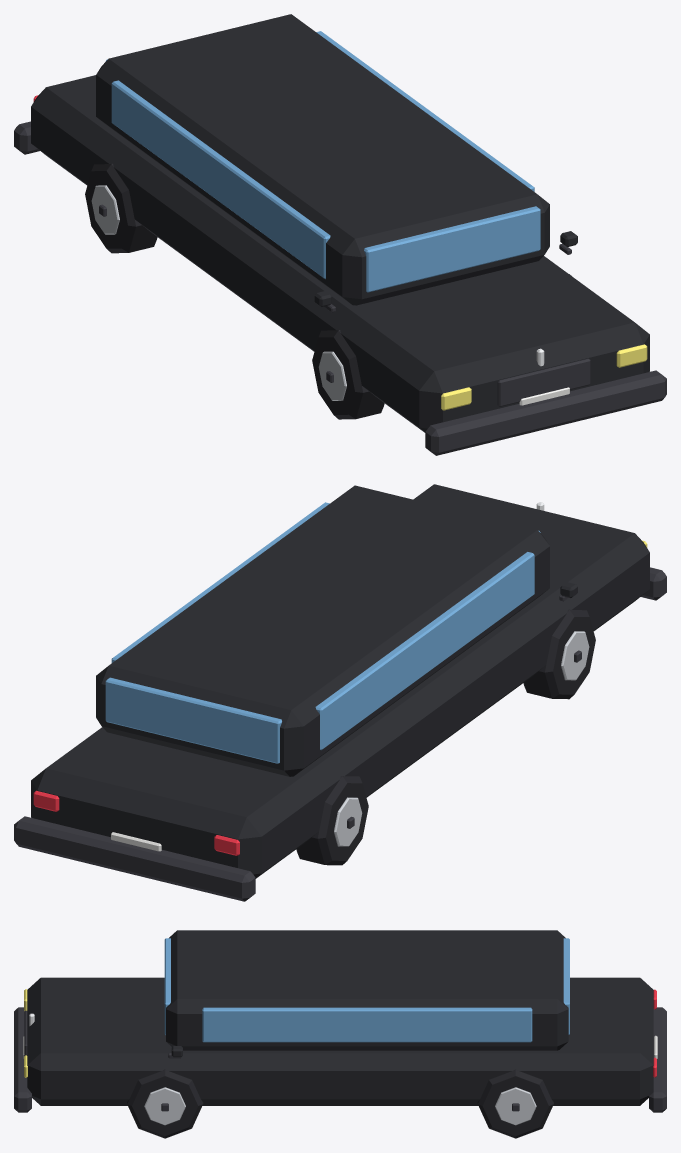
File: Limousine.fbx
3 renders of one model, top to bottom at view 1: azimuth 30°, elevation 25°; view 2: azimuth 150°, elevation 25°; view 3: azimuth 270°, elevation 25°, orthographic. The views are drawn at different scales.
Parts seen in each view (by area): view 1: Limousine, Limousine_WheelFR, Limousine_WheelBR; view 2: Limousine, Limousine_WheelBR, Limousine_WheelFR; view 3: Limousine, Limousine_WheelBL, Limousine_WheelFL.
Boxes of the visible parts, bbox=[...] form: Limousine: bbox=[14, 14, 666, 455]; Limousine_WheelFR: bbox=[312, 330, 384, 419]; Limousine_WheelBR: bbox=[85, 163, 157, 253]; Limousine: bbox=[14, 484, 666, 901]; Limousine_WheelBR: bbox=[296, 776, 368, 865]; Limousine_WheelFR: bbox=[523, 609, 595, 699]; Limousine: bbox=[14, 930, 666, 1112]; Limousine_WheelBL: bbox=[477, 1069, 553, 1138]; Limousine_WheelFL: bbox=[127, 1069, 203, 1138].
Bounding box in the file's own units: 5.15 × 3.22 × 14.6.
Materials: 1 (1 with a texture image).
